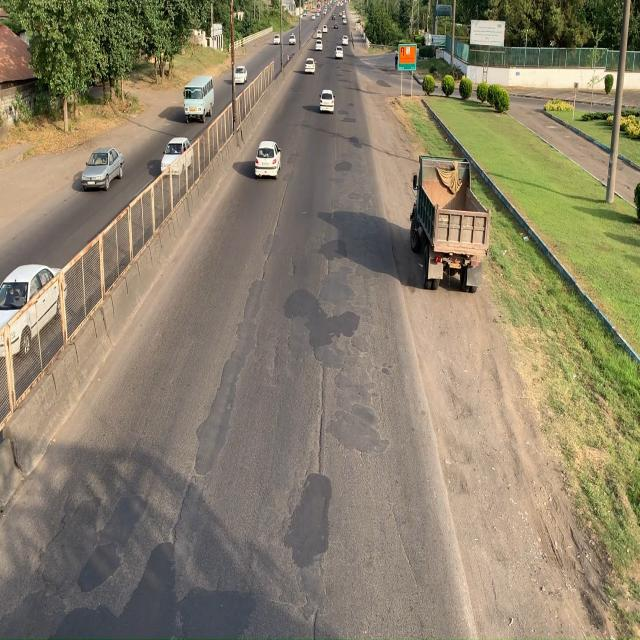Truck: (411, 150, 494, 290)
cars: (0, 267, 66, 358), (80, 146, 124, 190), (161, 138, 193, 177), (253, 139, 280, 179)
